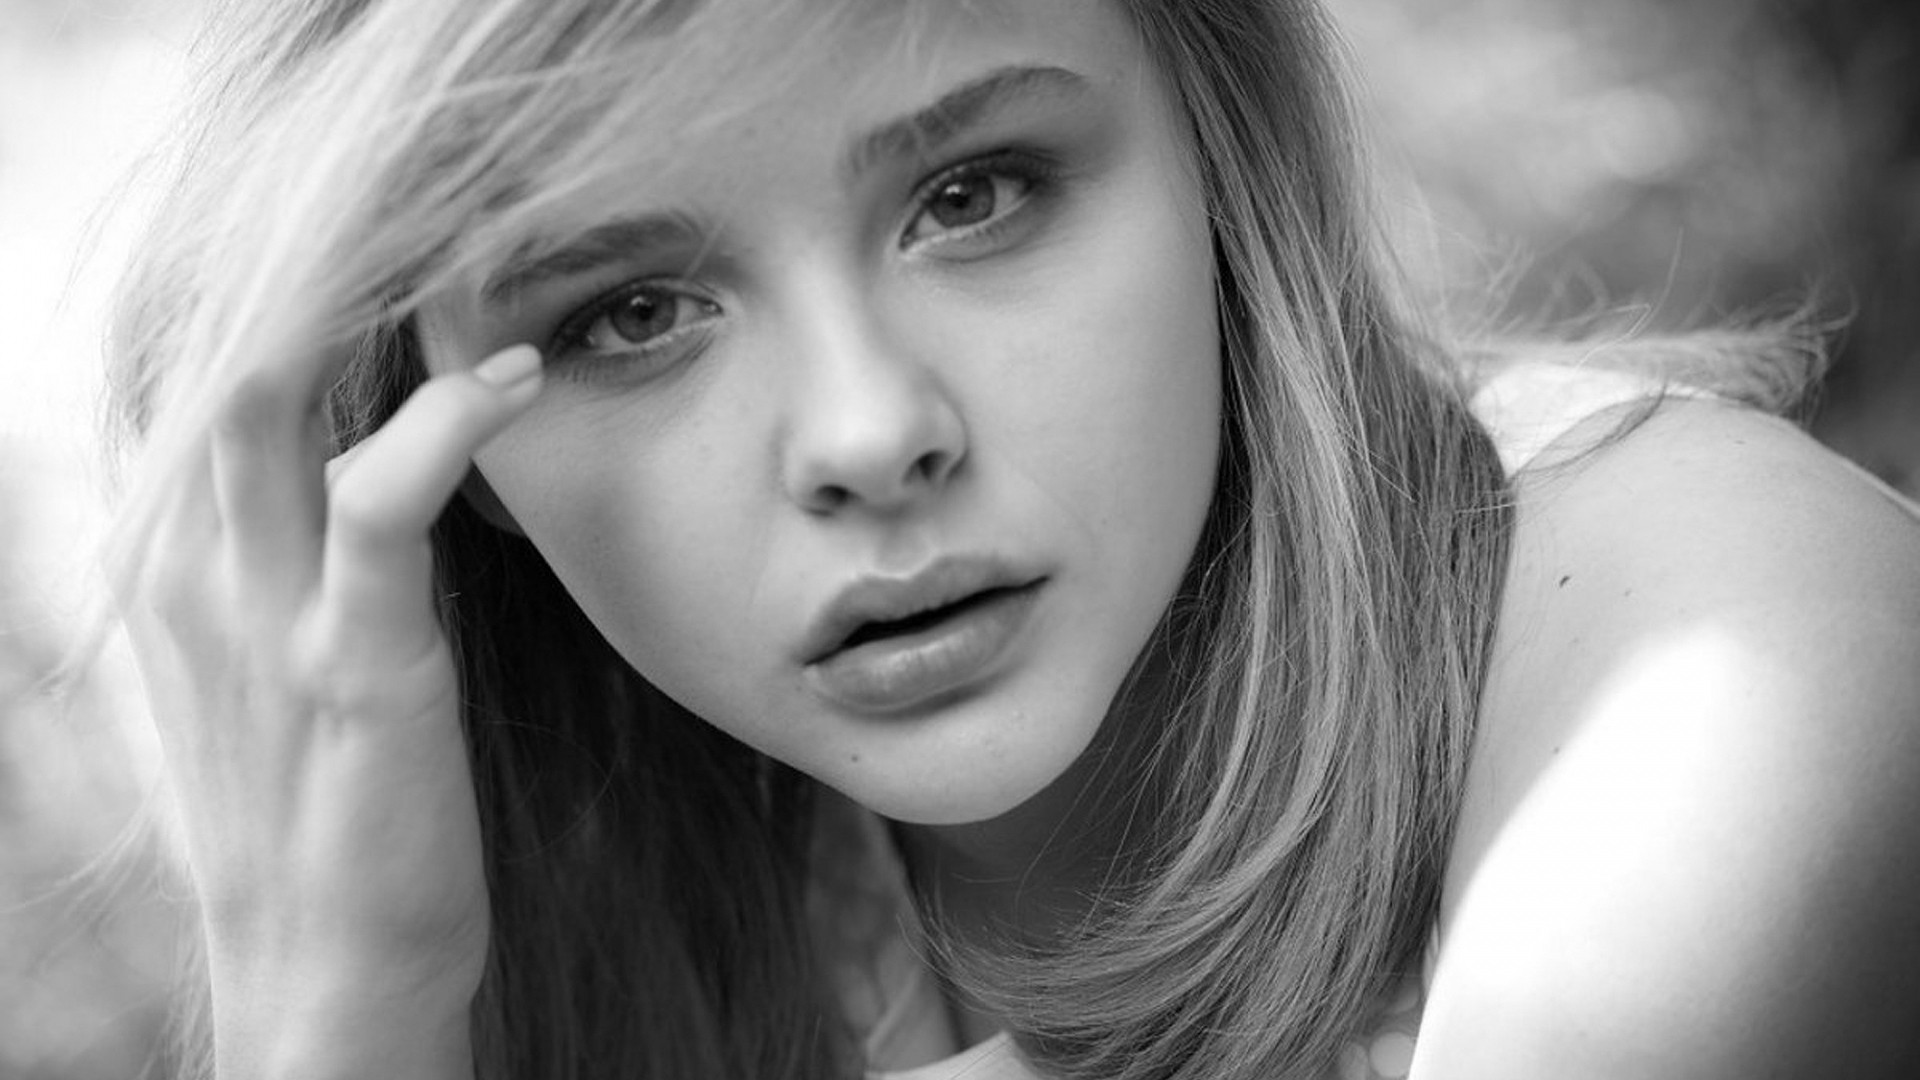GIRL: (270, 10, 1311, 825)
